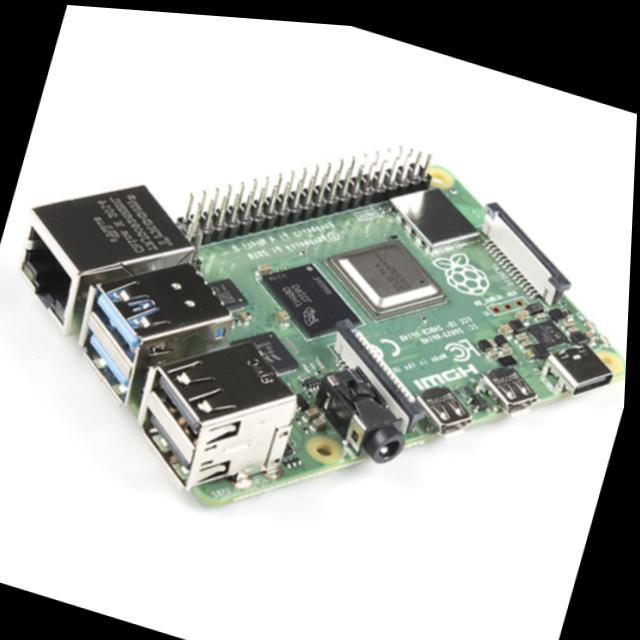Raspberry-Pi-4-B: (22, 148, 624, 504)
